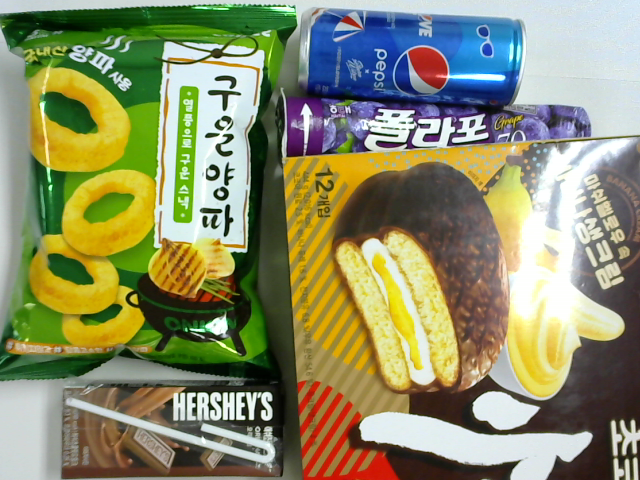Choco_Pie_Banana: (283, 137, 640, 479)
Grilled_Onions: (1, 10, 280, 392)
Hush_Choco_Drink: (58, 382, 281, 480)
Pepsi_Cola_Can_250ml: (297, 4, 530, 105)
Polapo_Grape: (273, 88, 598, 157)
